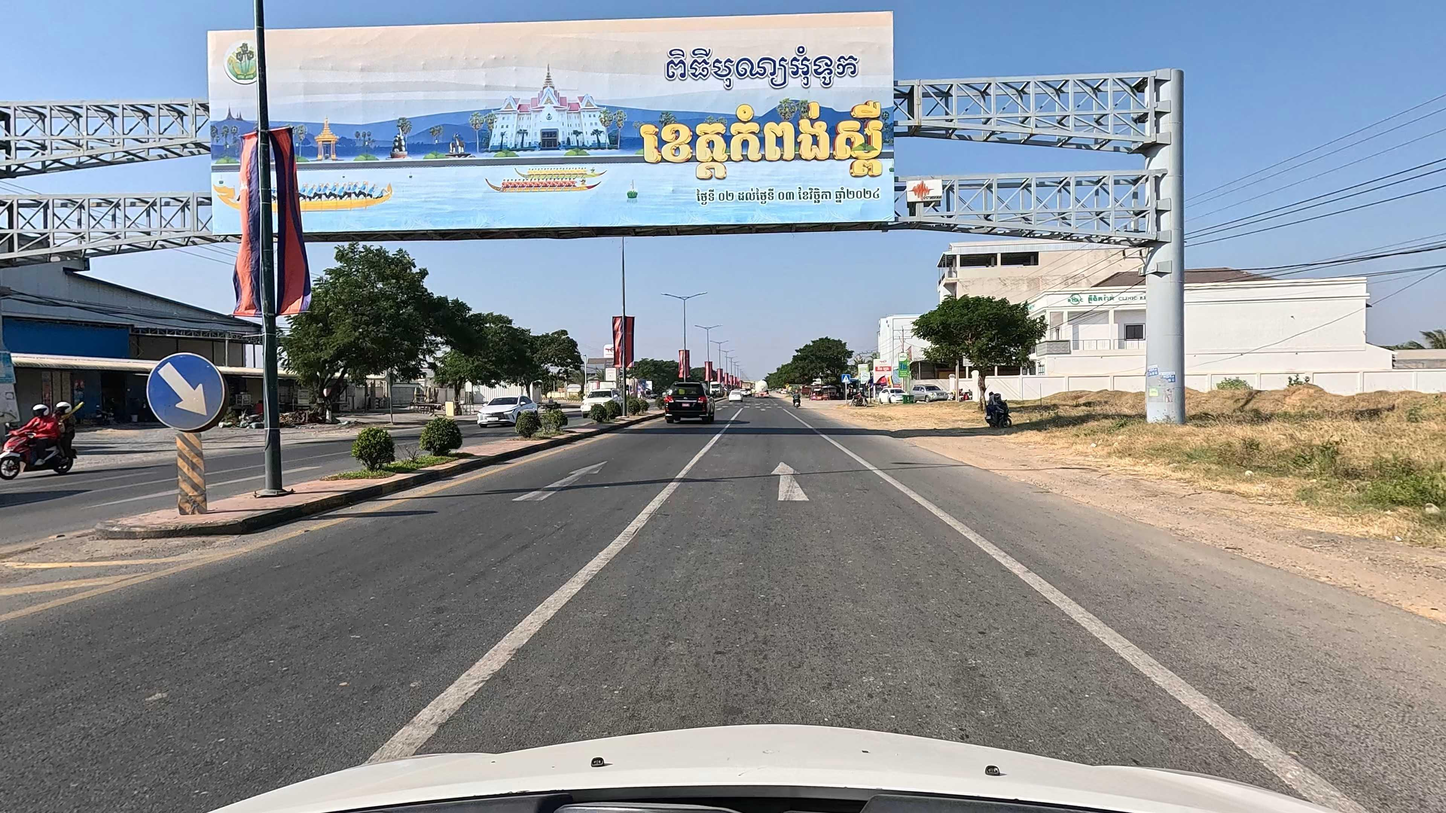keep_right: (146, 349, 225, 438)
pedestrian_crossing: (841, 374, 850, 384)
